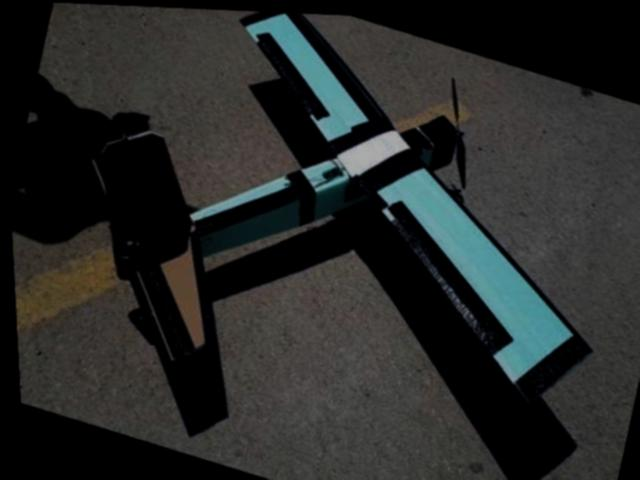uav: (32, 1, 640, 480)
